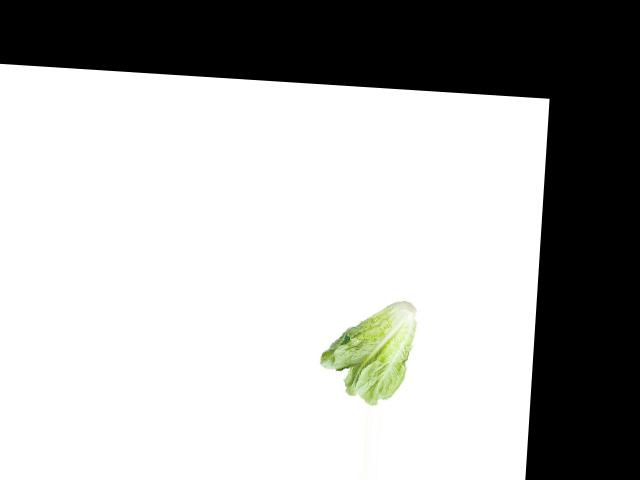lettuce: (314, 296, 421, 410)
